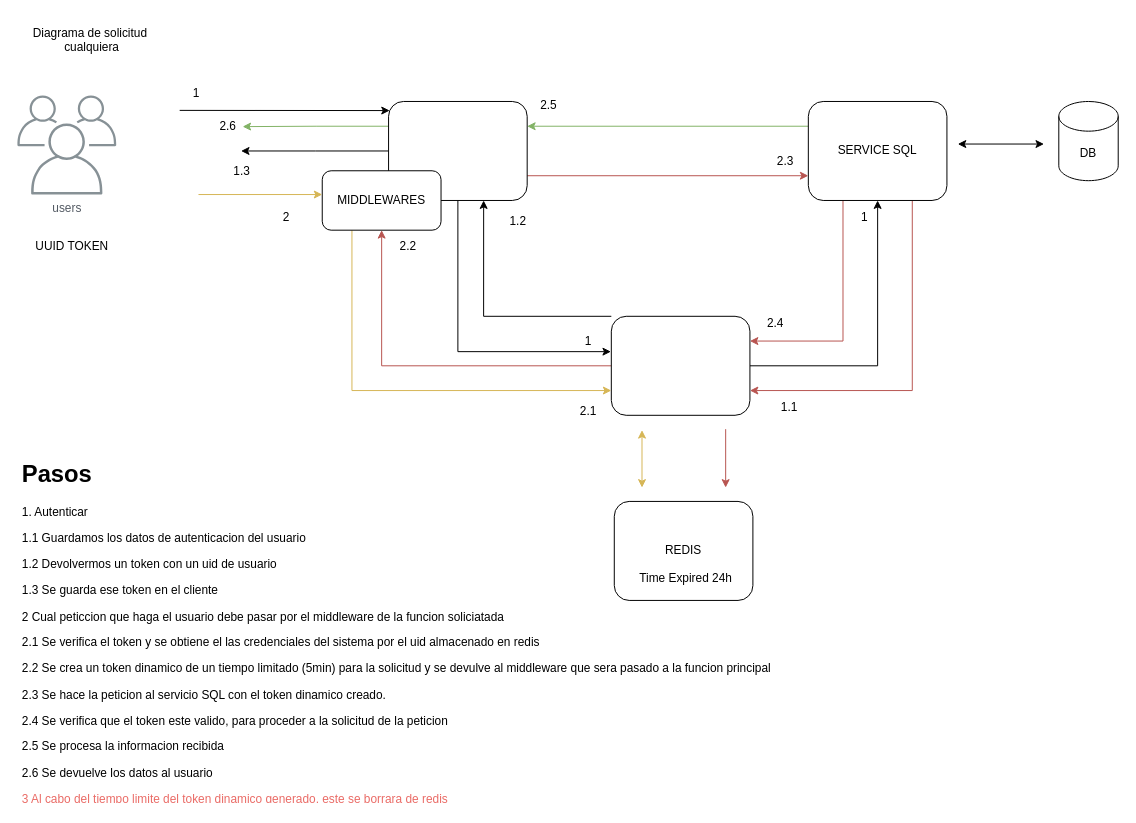
Some shapes in this 1136 by 823 pixel diagram are drawn without their labels. Each missing label, with the centre of its shape:
"SERVICE AUTH" goes at (x=680, y=365).
"SERVICE X" goes at (x=457, y=150).
